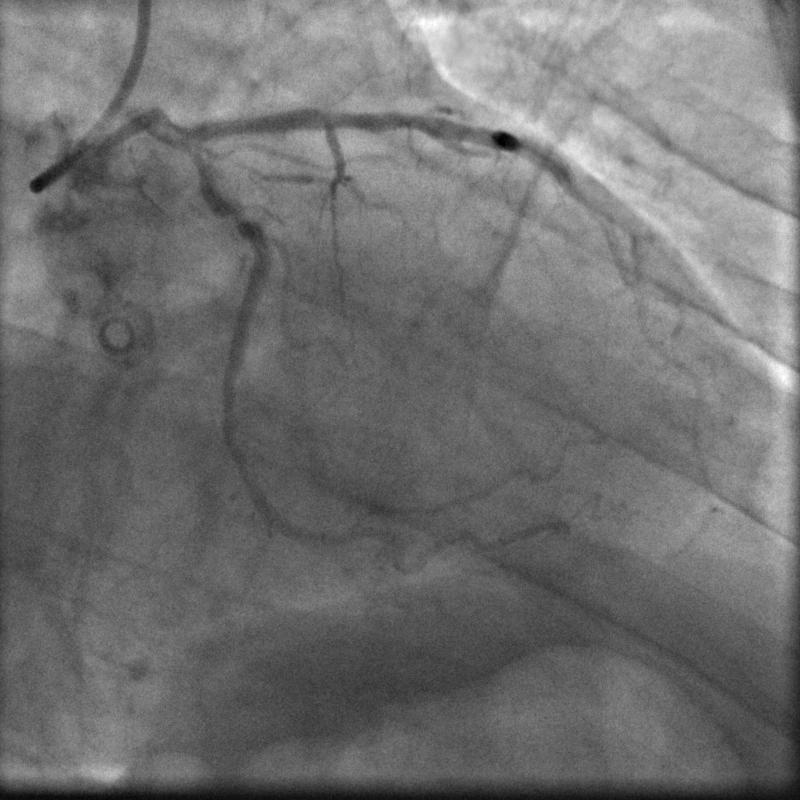Stenosis: (227, 207, 249, 224)
